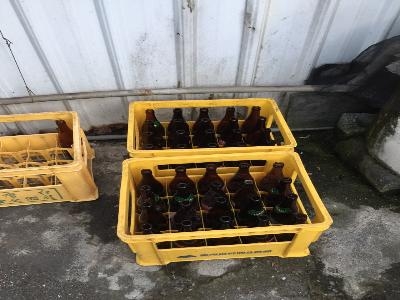bottle: (138, 107, 168, 145), (167, 164, 196, 197), (133, 168, 163, 199), (138, 202, 169, 232), (226, 162, 255, 193), (172, 198, 201, 229), (167, 108, 191, 144), (206, 196, 233, 228), (192, 108, 215, 145), (216, 107, 241, 141), (198, 162, 223, 195), (236, 195, 263, 224), (258, 161, 285, 189), (271, 194, 298, 222), (243, 106, 262, 133), (54, 119, 72, 147)
